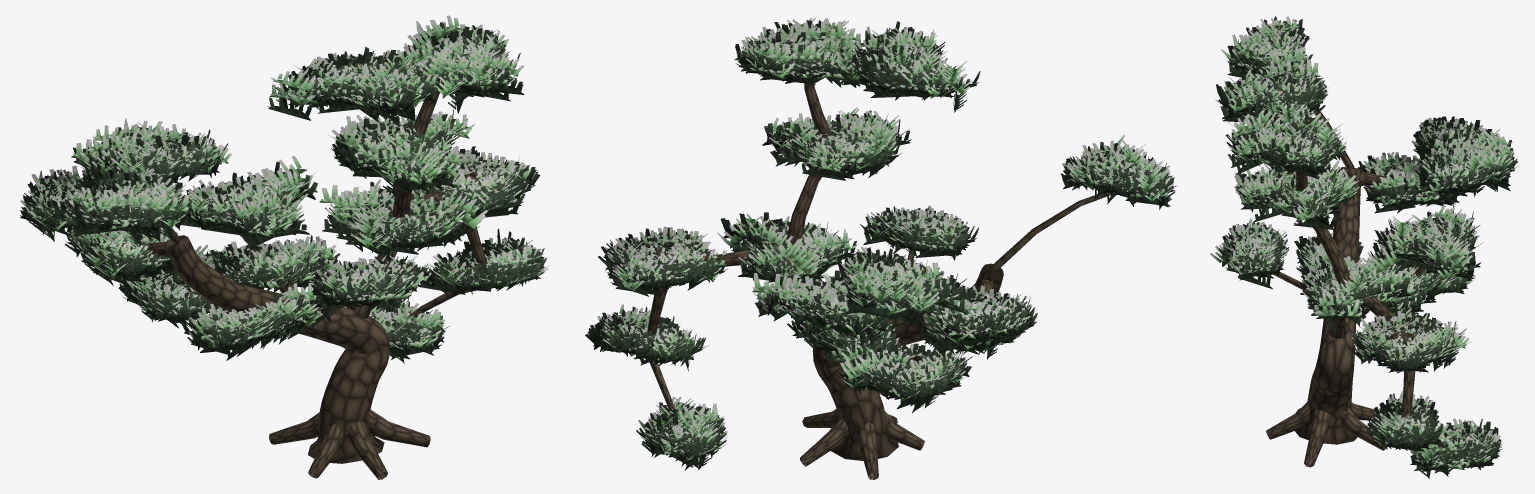
Rendered from pine_a_high.glb.
The picture shows the model from 3 angles, left to right: view 1: azimuth 30°, elevation 25°; view 2: azimuth 150°, elevation 25°; view 3: azimuth 270°, elevation 25°; orthographic projection. The views are drawn at different scales.
Parts seen in each view (by area): view 1: pine_a; view 2: pine_a; view 3: pine_a.
Boxes of the visible parts, x1,y1,x2,y2 form: pine_a: [20, 15, 549, 479]; pine_a: [585, 18, 1177, 479]; pine_a: [1210, 16, 1519, 478].
Bounding box in the file's own units: 4.29 × 3.04 × 2.42.
1 material, 1 textured.
